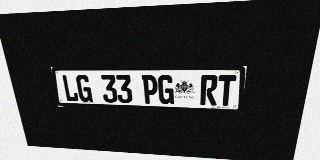3: (101, 75, 118, 103), (116, 75, 133, 103)
G: (75, 75, 93, 102), (158, 75, 174, 104)
L: (61, 75, 79, 102)
P: (142, 75, 158, 104)
R: (200, 75, 218, 105)
T: (217, 75, 236, 106)
